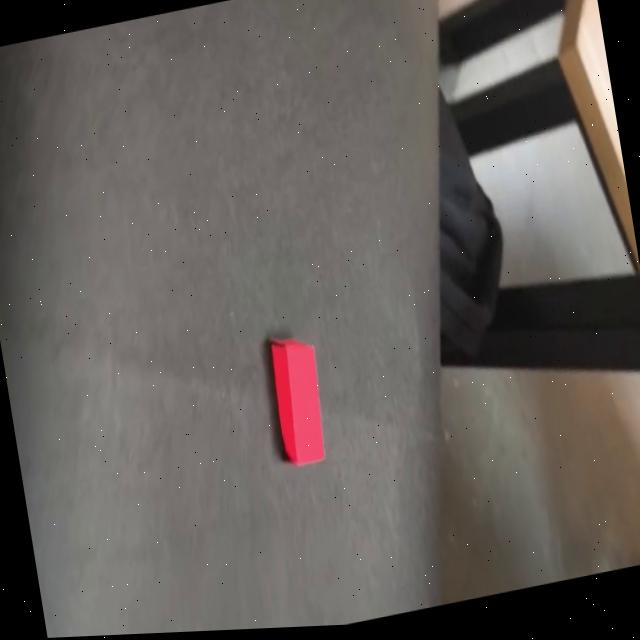red block: (264, 329, 332, 470)
